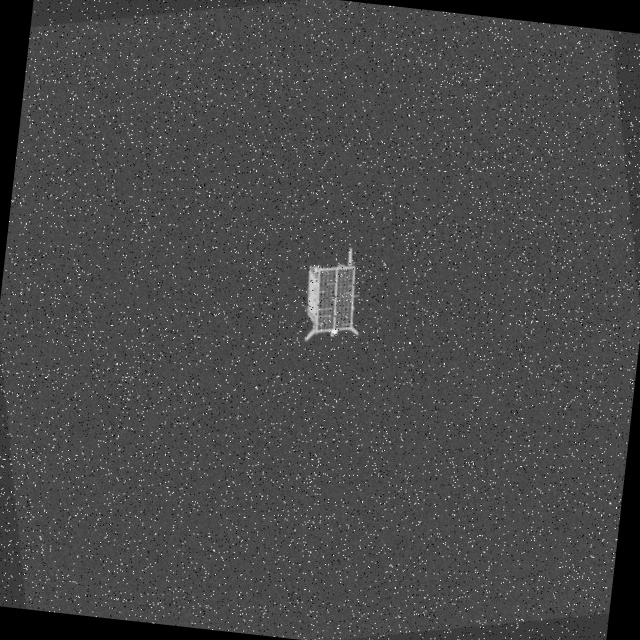satellite: (285, 243, 372, 353)
